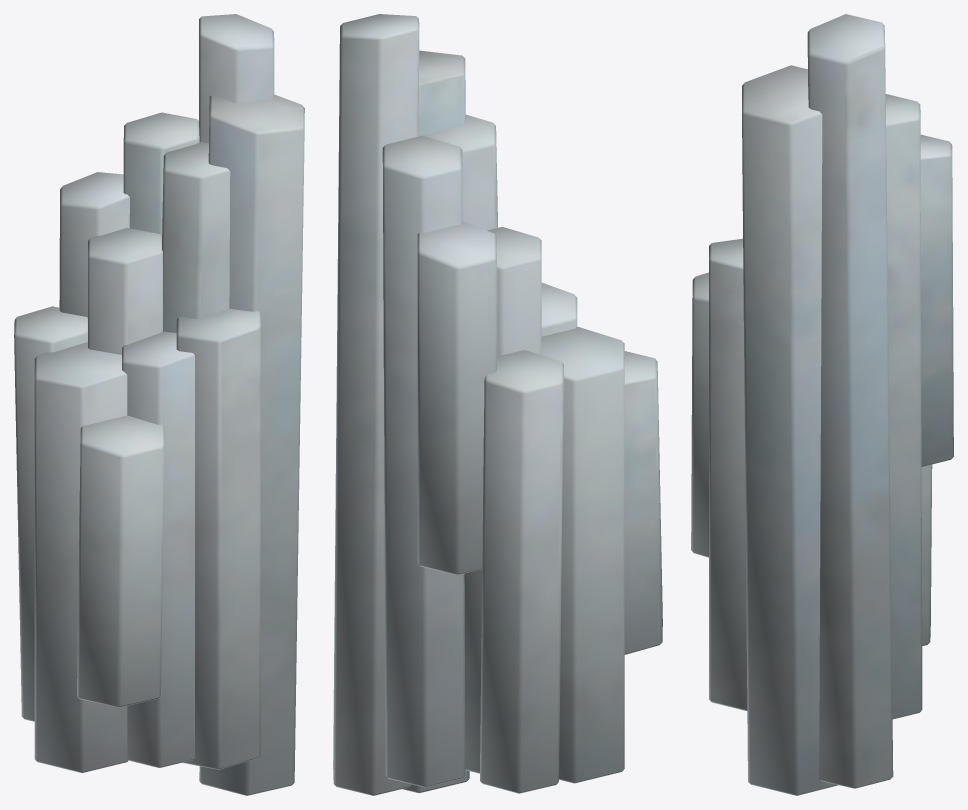
File: P_RockHexic_Spire02.obj
3 views of the same model, side by side, from view 1: azimuth 30°, elevation 25°; view 2: azimuth 150°, elevation 25°; view 3: azimuth 270°, elevation 25° (orthographic). The views are drawn at different scales.
Size of the model in its own units: 12.84 by 34.94 by 11.11.
